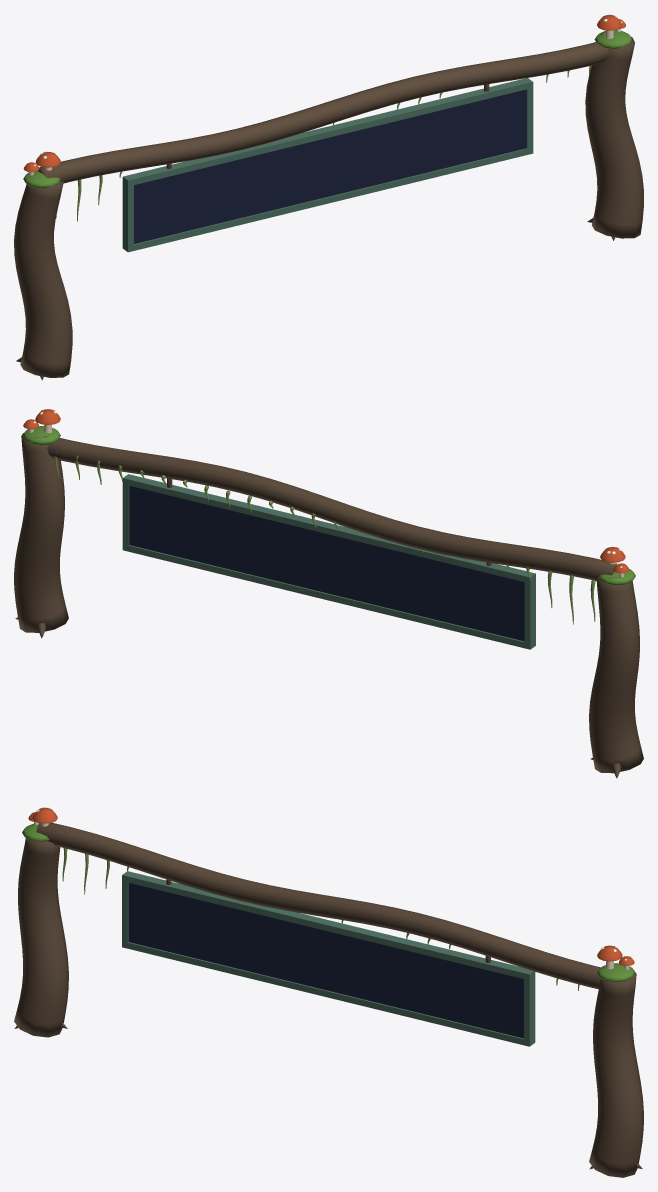
File: ZoneArch_Swamp.glb
The picture shows the model from 3 angles, top to bottom: view 1: azimuth 30°, elevation 25°; view 2: azimuth 150°, elevation 25°; view 3: azimuth 330°, elevation 25°; orthographic projection.
Visible parts, largest first — view 1: Logs, SignPanel, SignFrame, Moss, Caps; view 2: Logs, SignPanel, SignFrame, HangingMoss, Caps, Moss; view 3: Logs, SignPanel, SignFrame, Moss, Caps.
Boxes of the visible parts, bbox=[...] form: Logs: bbox=[14, 31, 643, 380]; SignPanel: bbox=[134, 89, 526, 243]; SignFrame: bbox=[122, 78, 533, 252]; Moss: bbox=[23, 30, 632, 188]; Caps: bbox=[23, 15, 625, 172]; Logs: bbox=[14, 433, 643, 778]; SignPanel: bbox=[129, 486, 524, 641]; SignFrame: bbox=[122, 474, 535, 649]; HangingMoss: bbox=[54, 451, 595, 624]; Caps: bbox=[23, 409, 629, 573]; Moss: bbox=[22, 426, 635, 585]; Logs: bbox=[14, 822, 643, 1177]; SignPanel: bbox=[128, 883, 523, 1038]; SignFrame: bbox=[122, 871, 535, 1046]; Moss: bbox=[22, 823, 634, 981]; Caps: bbox=[28, 808, 634, 965].
Size of the model in its own units: 97.83 by 32.87 by 7.57.
